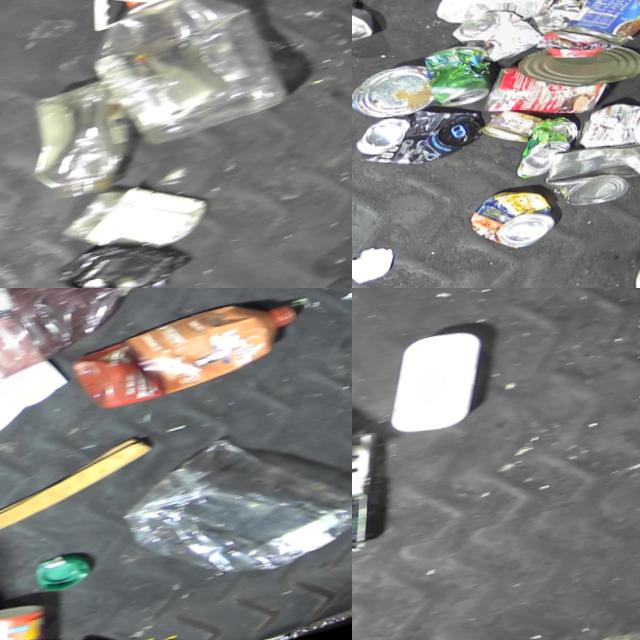can: (475, 44, 613, 138), (352, 96, 486, 179), (515, 28, 640, 105), (538, 130, 640, 217), (465, 183, 560, 260), (448, 2, 547, 74), (352, 59, 436, 130), (421, 42, 498, 115), (506, 115, 587, 183), (553, 0, 640, 62), (572, 92, 640, 166), (478, 103, 547, 154), (0, 598, 64, 640), (352, 0, 375, 56)
non_white_jug: (73, 0, 293, 159), (63, 291, 307, 419)
